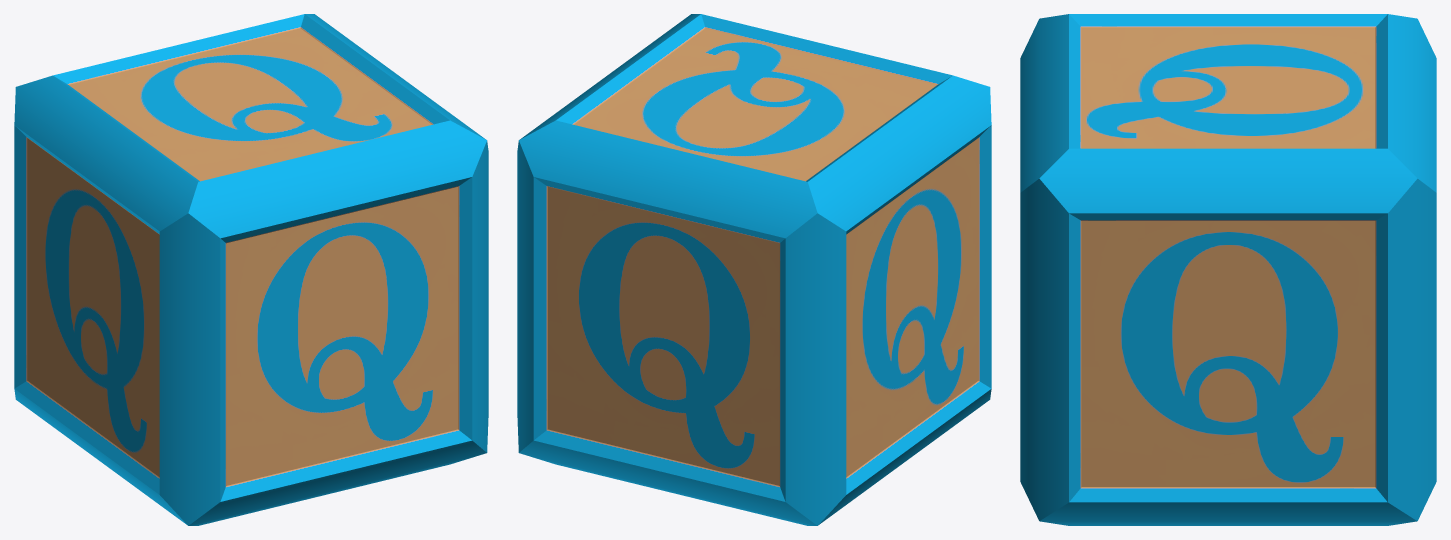
3 renders of one model, left to right at view 1: azimuth 30°, elevation 25°; view 2: azimuth 150°, elevation 25°; view 3: azimuth 270°, elevation 25°, orthographic. The views are drawn at different scales.
Visible parts, largest first — view 1: pCube1; view 2: pCube1; view 3: pCube1.
Part boxes in pixels (<box>): pCube1: <box>14,14,488,525</box>; pCube1: <box>517,14,991,525</box>; pCube1: <box>1020,14,1436,525</box>.
Size of the model in its own units: 0.4114 by 0.4114 by 0.4114.
Materials: 1 (1 with a texture image).
